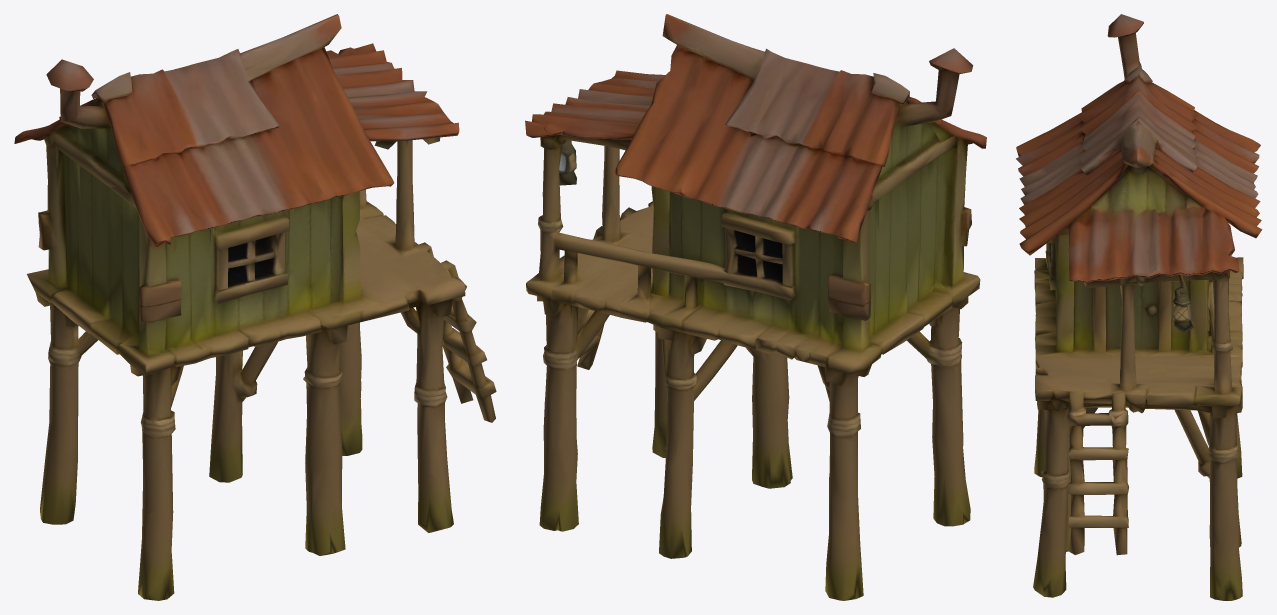
The model's file is stilt-shack.glb.
3 renders of one model, left to right at view 1: azimuth 30°, elevation 25°; view 2: azimuth 150°, elevation 25°; view 3: azimuth 270°, elevation 25°, orthographic. The views are drawn at different scales.
Parts seen in each view (by area): view 1: tripo_node_253fd4ce-a263-4d43-8526-7a20d2c04633; view 2: tripo_node_253fd4ce-a263-4d43-8526-7a20d2c04633; view 3: tripo_node_253fd4ce-a263-4d43-8526-7a20d2c04633.
Part boxes in pixels (x1,y1,x2,y2): tripo_node_253fd4ce-a263-4d43-8526-7a20d2c04633: (14, 14, 496, 600); tripo_node_253fd4ce-a263-4d43-8526-7a20d2c04633: (525, 14, 986, 600); tripo_node_253fd4ce-a263-4d43-8526-7a20d2c04633: (1016, 14, 1262, 600).
Size of the model in its own units: 0.8568 by 1 by 0.5083.
1 material, 1 textured.
